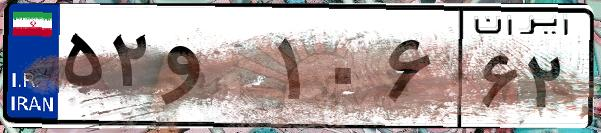0: (330, 28, 385, 110)
1: (270, 28, 330, 110)
2: (525, 38, 570, 115), (110, 28, 158, 98)
5: (57, 26, 110, 100)
6: (385, 28, 445, 110), (475, 38, 525, 113)
و: (158, 20, 270, 120)
